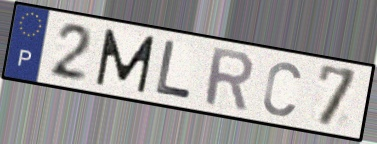2: (46, 21, 95, 84)
7: (316, 62, 359, 130)
C: (260, 59, 304, 119)
L: (153, 38, 194, 103)
M: (93, 26, 158, 95)
R: (202, 45, 255, 114)
